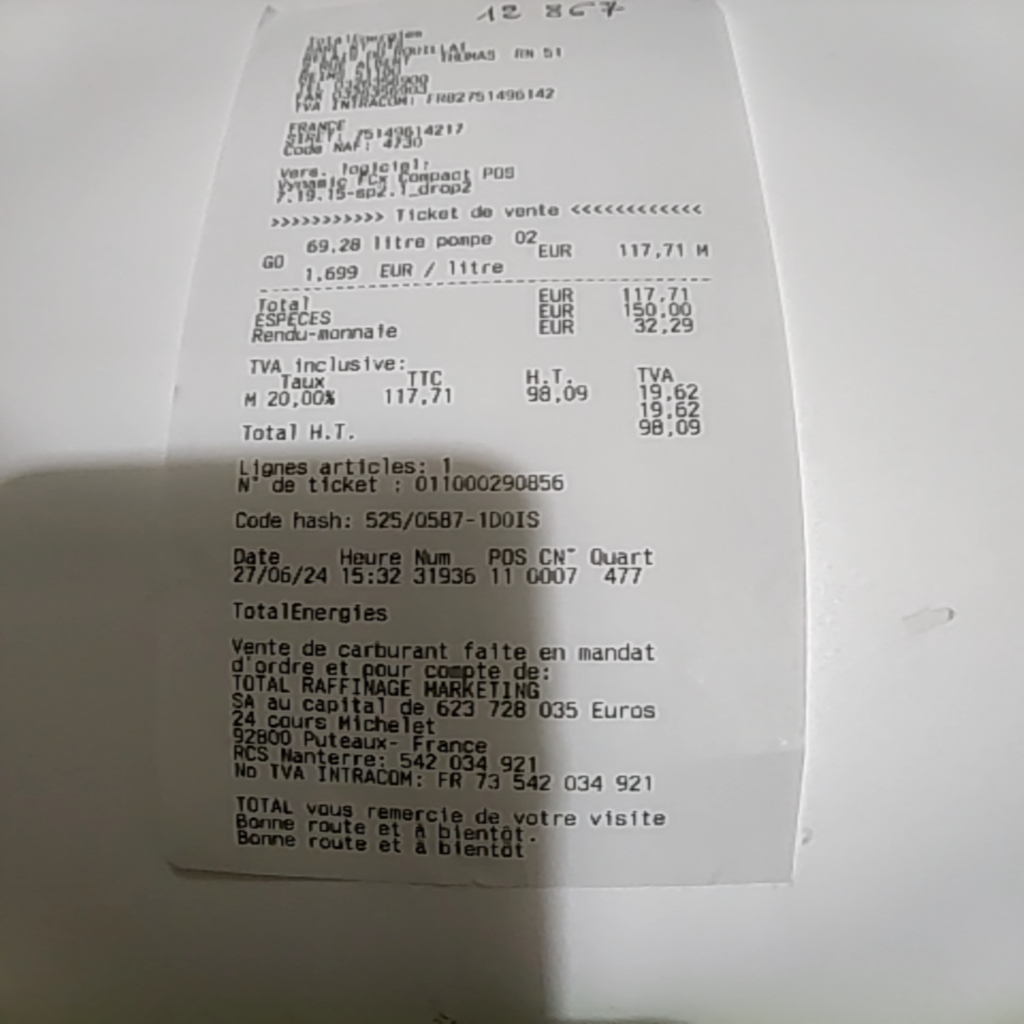recipt: (159, 6, 802, 881)
